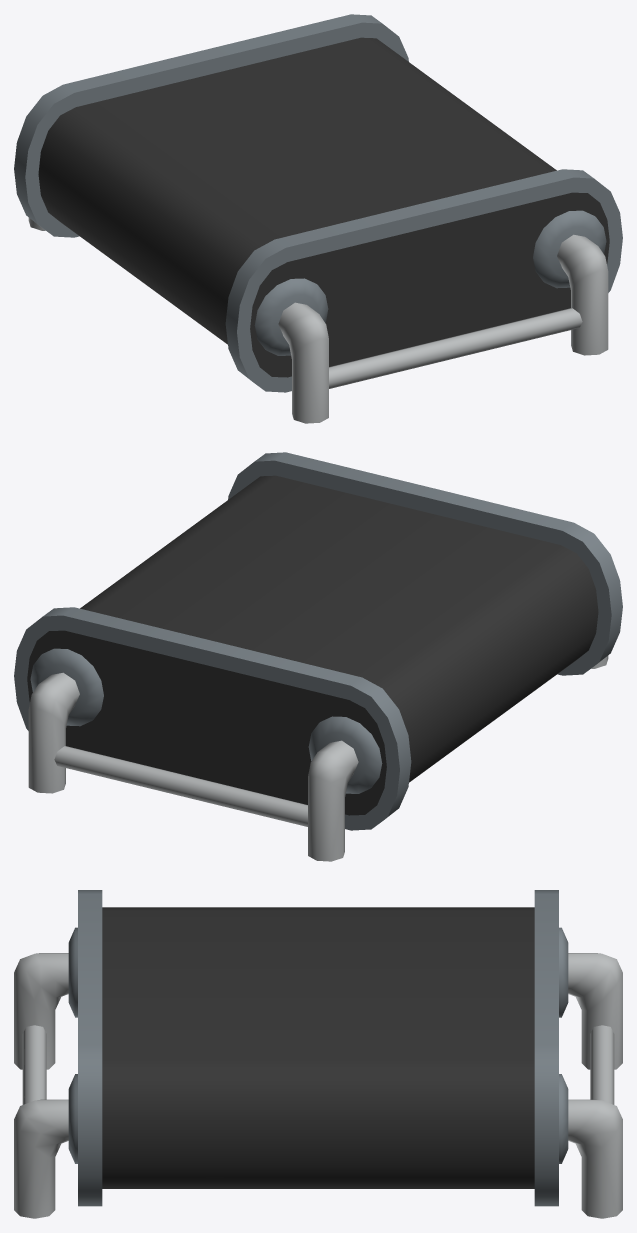
File: Conveyer.fbx
3 renders of one model, top to bottom at view 1: azimuth 30°, elevation 25°; view 2: azimuth 150°, elevation 25°; view 3: azimuth 270°, elevation 25°, orthographic. The views are drawn at different scales.
Parts seen in each view (by area): view 1: Conveyer; view 2: Conveyer; view 3: Conveyer.
Boxes of the visible parts, x1,y1,x2,y2 form: Conveyer: (14, 14, 622, 423); Conveyer: (14, 452, 622, 861); Conveyer: (14, 890, 622, 1218).
Size of the model in its own units: 100 by 38.23 by 127.
Materials: 2 (2 with a texture image).
